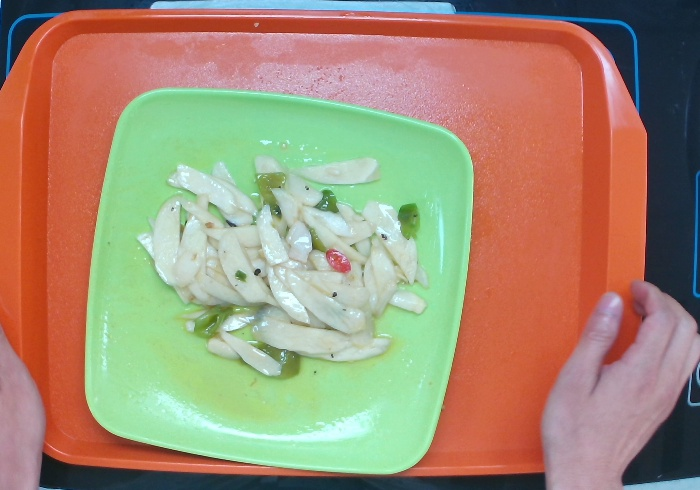ZNLD-Lv_Fang_Pan: (68, 68, 493, 480)
